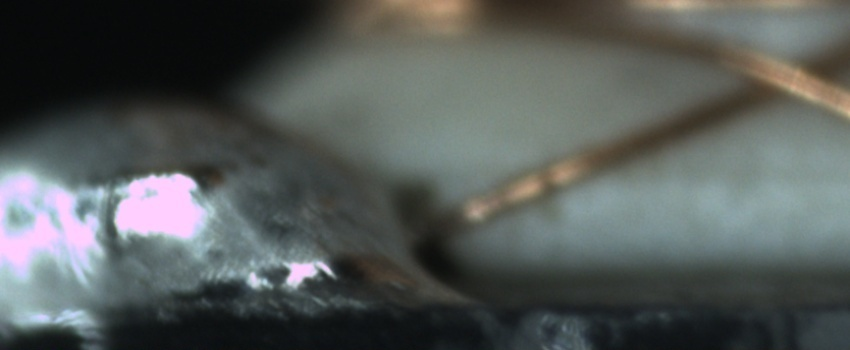CL: (713, 28, 840, 117)
DL: (617, 150, 849, 204)
